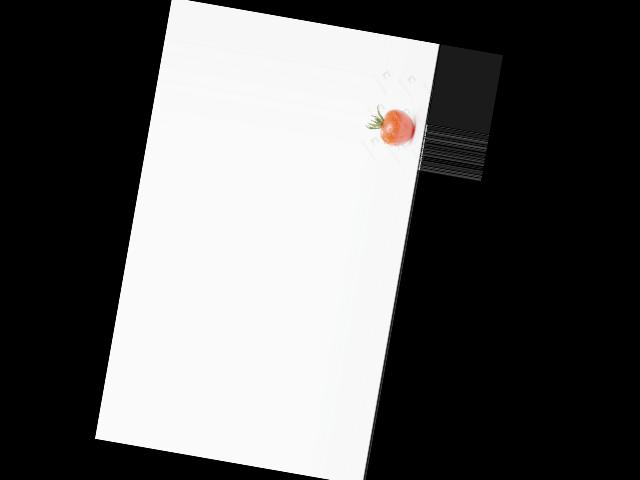tomato: (379, 107, 416, 148)
